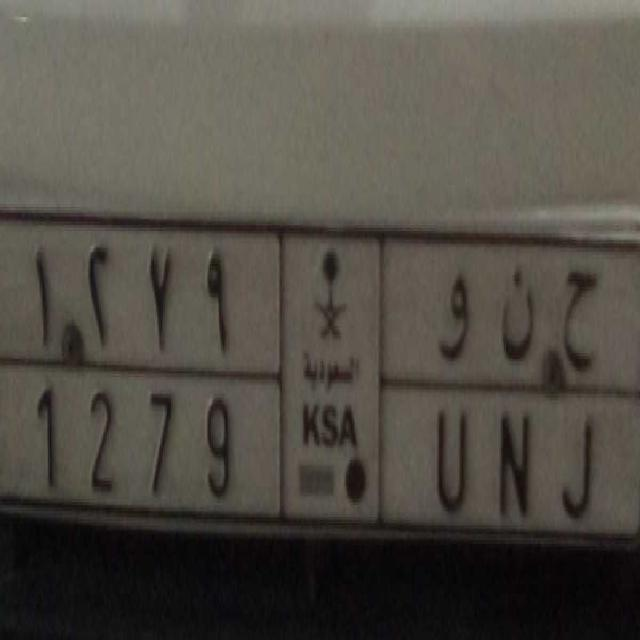license_plate: (1, 359, 631, 558)
